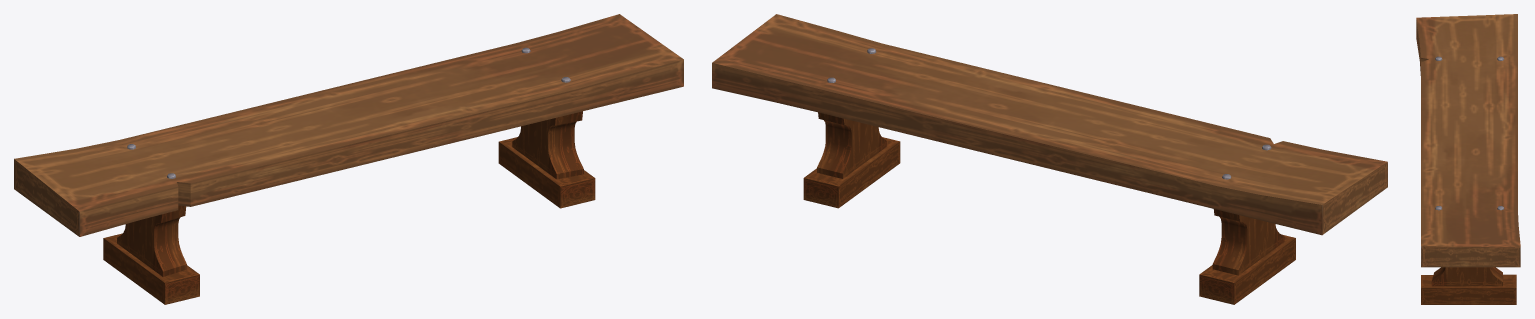
File: Bench.glb
3 renders of one model, left to right at view 1: azimuth 30°, elevation 25°; view 2: azimuth 150°, elevation 25°; view 3: azimuth 270°, elevation 25°, orthographic. The views are drawn at different scales.
Visible parts, largest first — view 1: Bench; view 2: Bench; view 3: Bench.
Part boxes in pixels (x1,y1,x2,y2): Bench: (14,14,683,304); Bench: (712,14,1387,304); Bench: (1416,14,1520,304).
Size of the model in its own units: 2.78 by 0.5332 by 0.5343.
2 materials, 2 textured.
